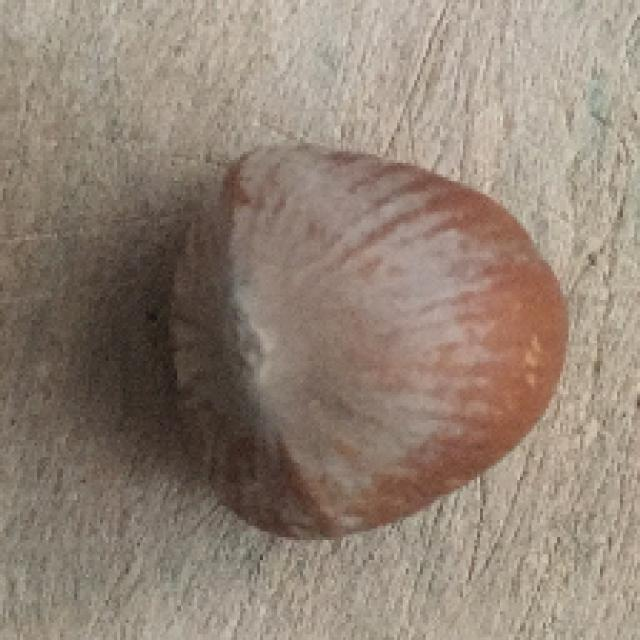qualityHazelnut: (172, 142, 568, 541)
